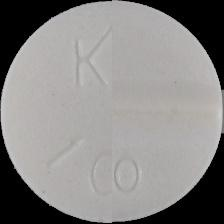54868-4478: (0, 0, 224, 224)
